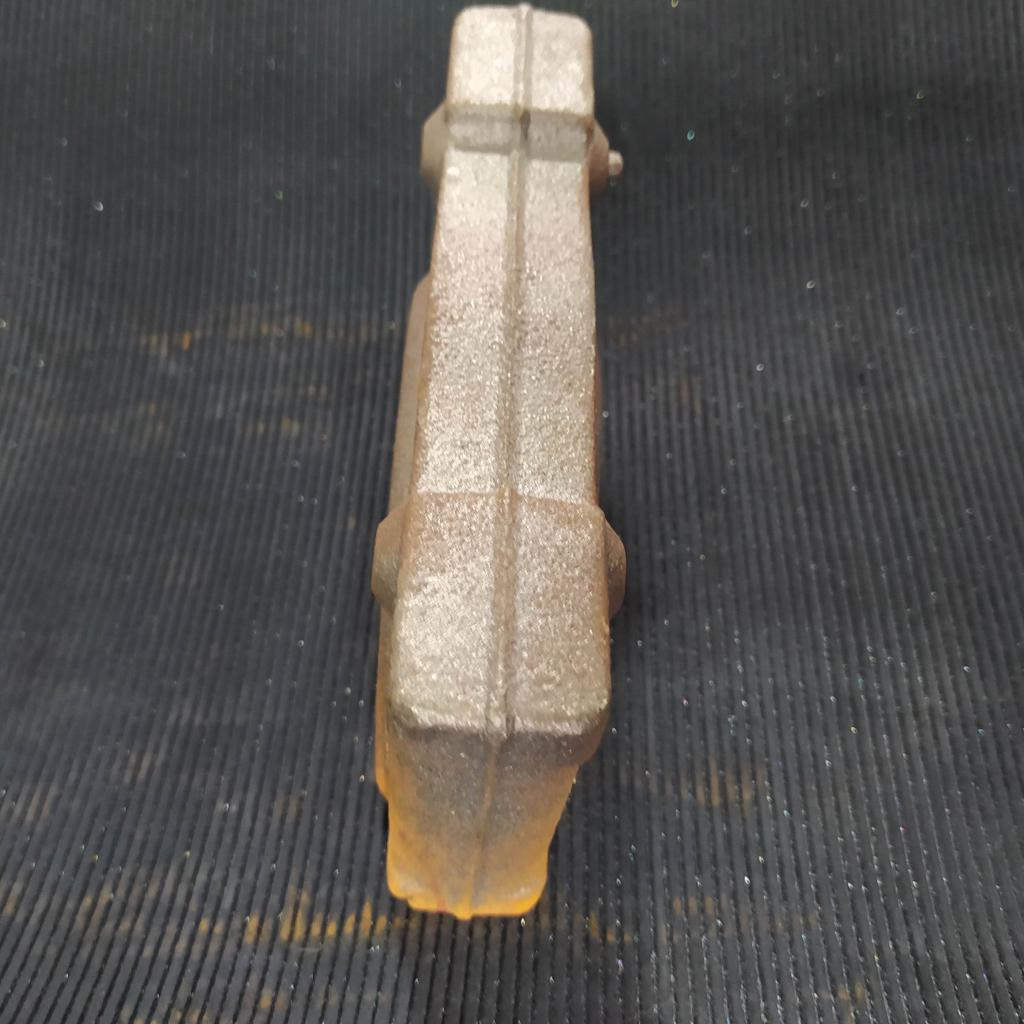rechupe: (393, 894, 423, 910)
